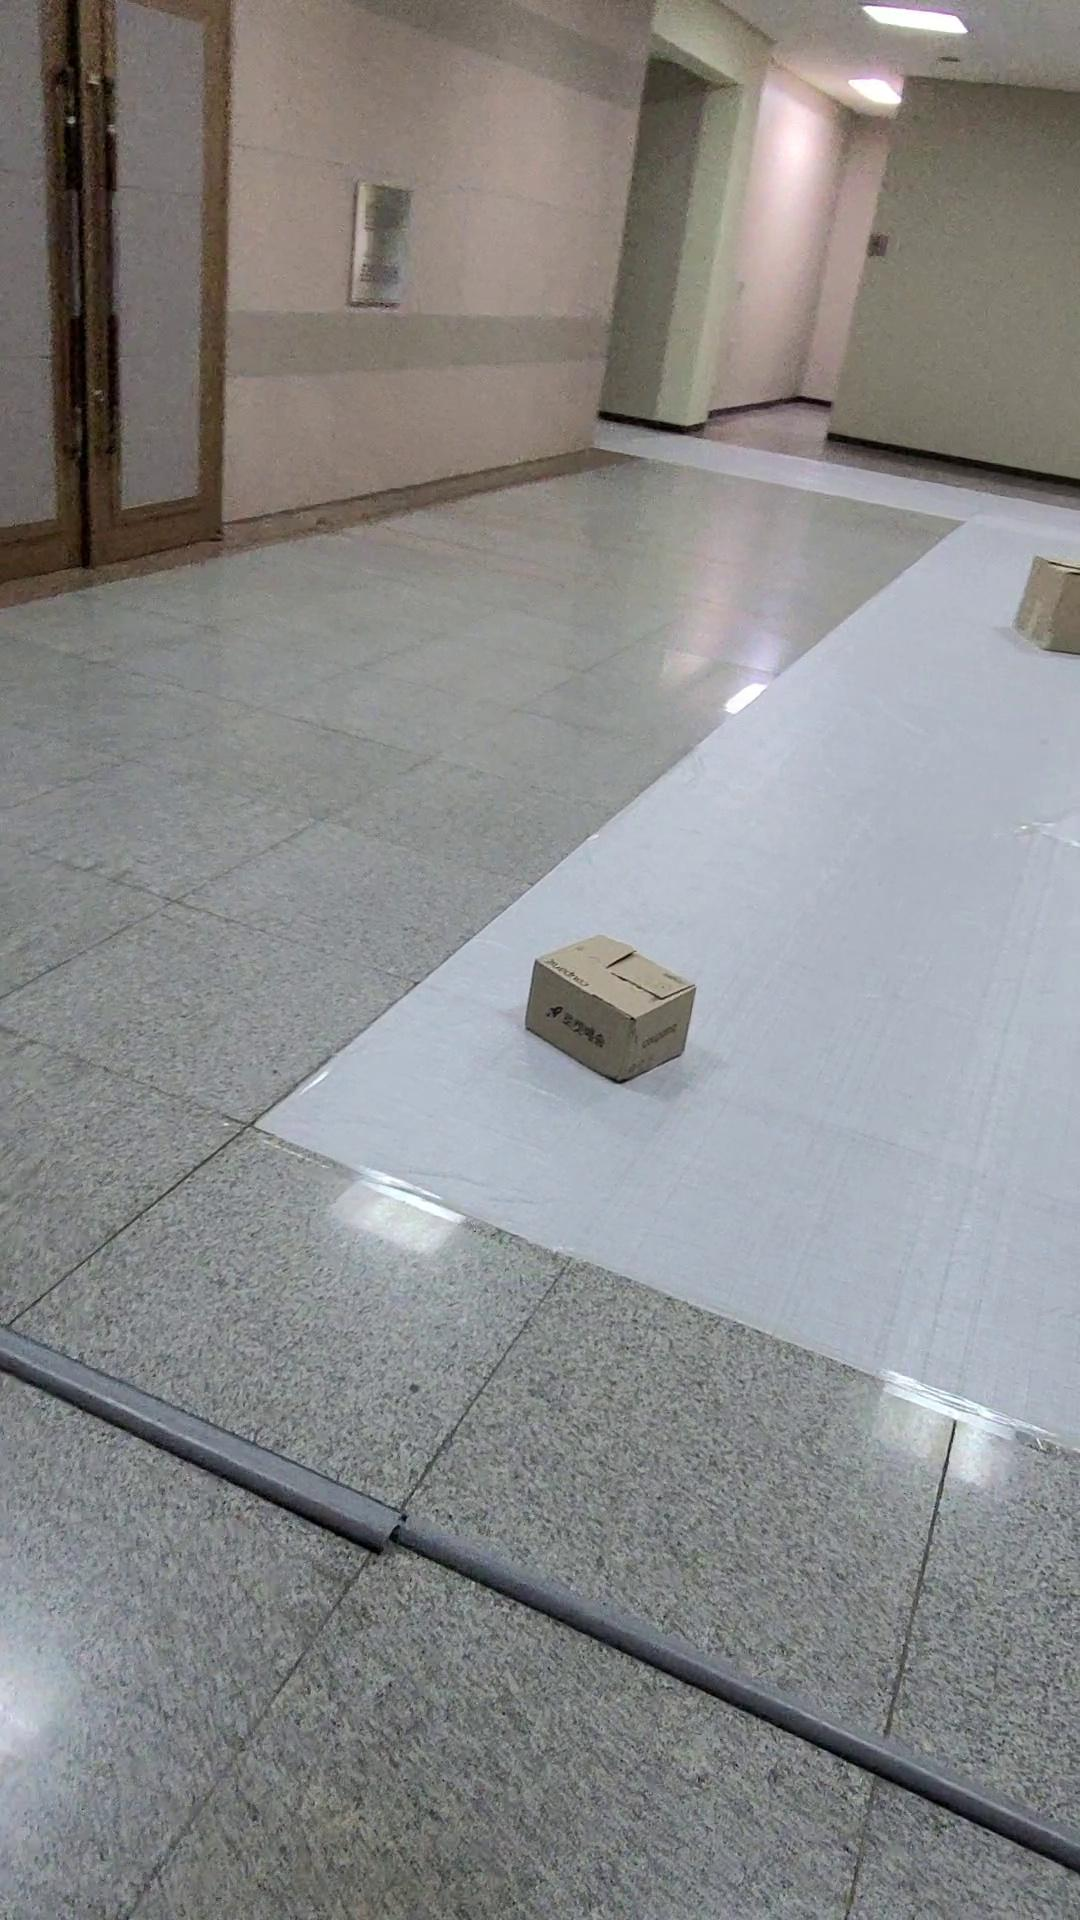Box: (526, 887, 727, 1100), (981, 500, 1080, 676)
